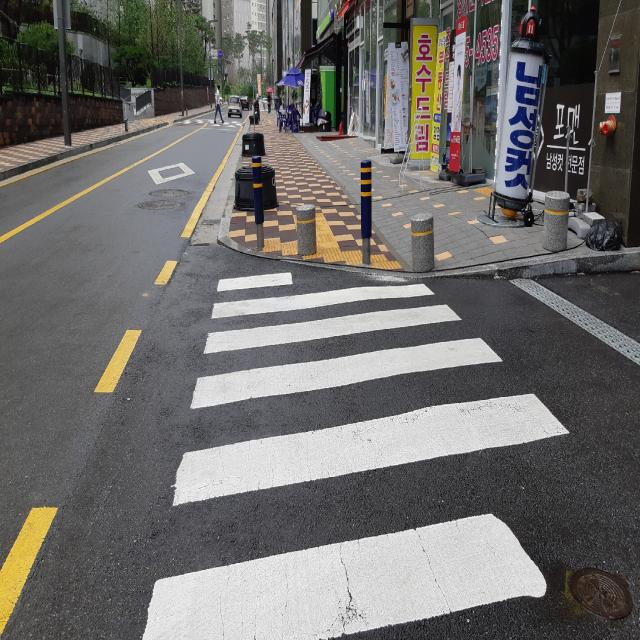횡단보도: (137, 260, 574, 640)
